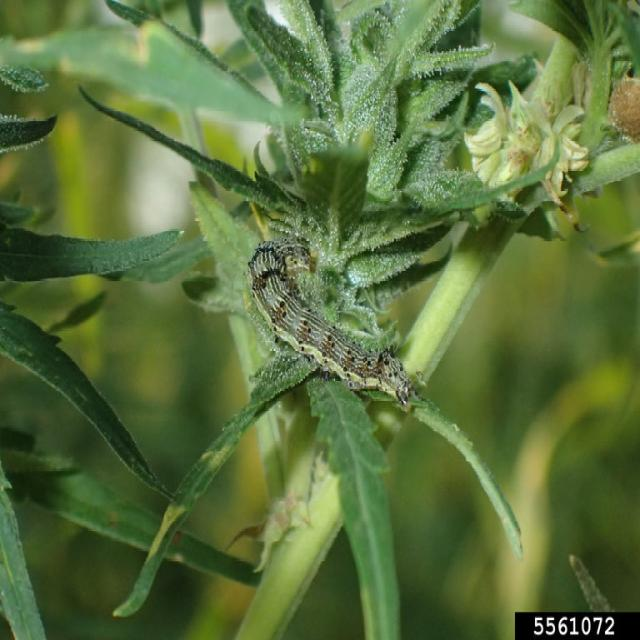Corn-earworm: (253, 232, 419, 433)
